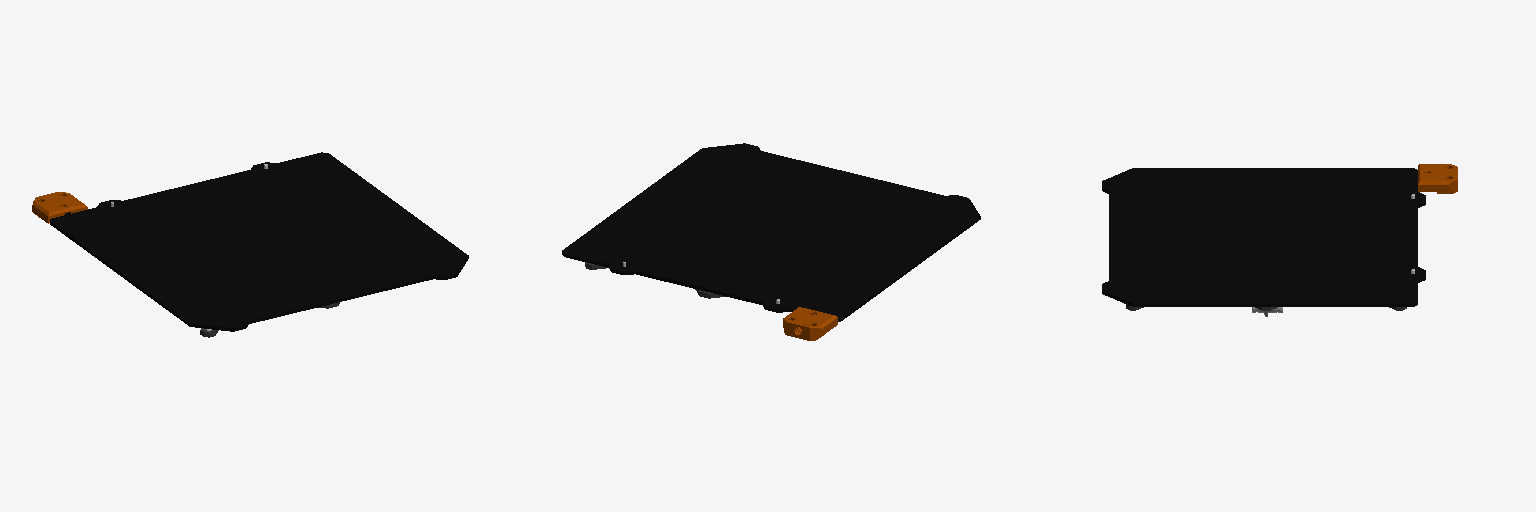
Rendered from Y_AXIS.obj.
3 views of the same model, side by side, from view 1: azimuth 30°, elevation 25°; view 2: azimuth 150°, elevation 25°; view 3: azimuth 270°, elevation 25° (orthographic).
Parts seen in each view (by area): view 1: mesh 3 Headbed Assembly-1/heatbed-cable-cover top-1, mesh 2 Headbed Assembly-1/6x6x3t spacer-1; view 2: mesh 3 Headbed Assembly-1/heatbed-cable-cover top-1, mesh 2 Headbed Assembly-1/6x6x3t spacer-1; view 3: mesh 3 Headbed Assembly-1/heatbed-cable-cover top-1, mesh 2 Headbed Assembly-1/6x6x3t spacer-1.
Boxes of the visible parts, x1=… form: mesh 3 Headbed Assembly-1/heatbed-cable-cover top-1: x1=50, y1=152, x2=468, y2=331; mesh 2 Headbed Assembly-1/6x6x3t spacer-1: x1=32, y1=192, x2=87, y2=223; mesh 3 Headbed Assembly-1/heatbed-cable-cover top-1: x1=562, y1=143, x2=980, y2=321; mesh 2 Headbed Assembly-1/6x6x3t spacer-1: x1=783, y1=307, x2=837, y2=340; mesh 3 Headbed Assembly-1/heatbed-cable-cover top-1: x1=1102, y1=168, x2=1425, y2=306; mesh 2 Headbed Assembly-1/6x6x3t spacer-1: x1=1418, y1=164, x2=1457, y2=193.
Size of the model in its own units: 0.2538 by 0.0443 by 0.2814.